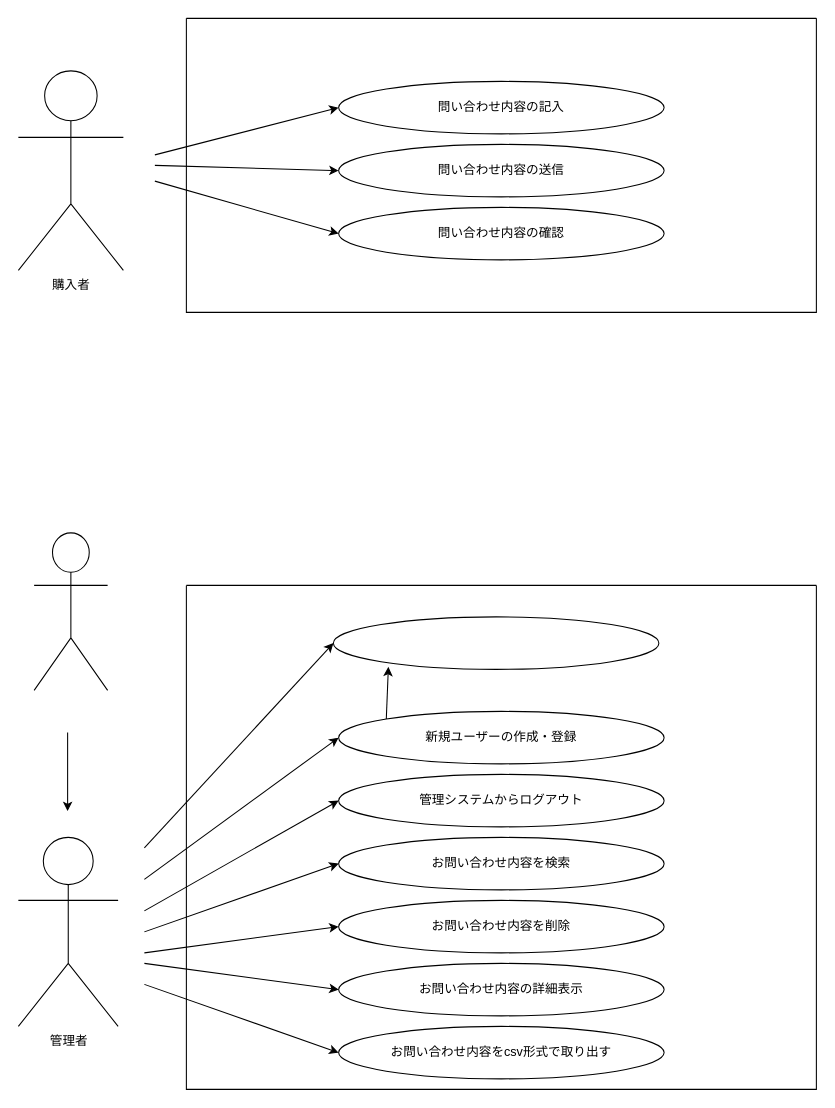
Image size: 835x1108. Some labels were removed from this diagram. Here are the shapes that lost their labels. From the top down, the box of each, then its label:
(185, 17, 816, 312): 問い合わせ送信システム
(33, 532, 108, 690): 新規管理者
(332, 616, 659, 669): 管理システムにログイン
(185, 584, 816, 1089): 問い合わせ管理システム
